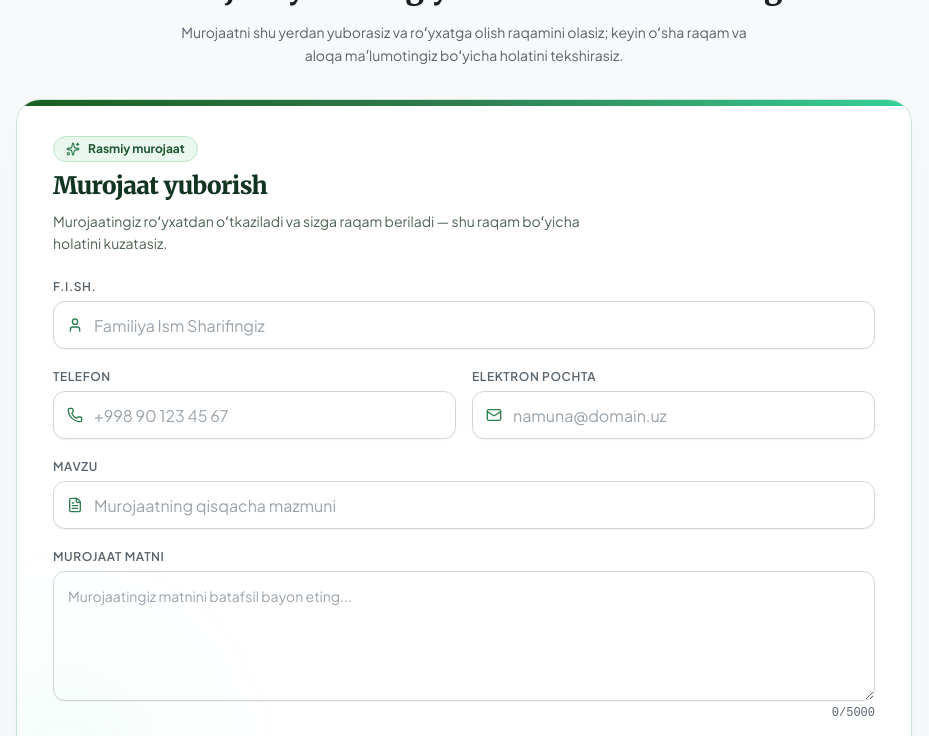
Test: filing an appeal › fills the check form with the number and contact just used
Type "Aziz Karimov" into the field with id "appeal-file-name" at point(464, 325), box [53,301,875,349]
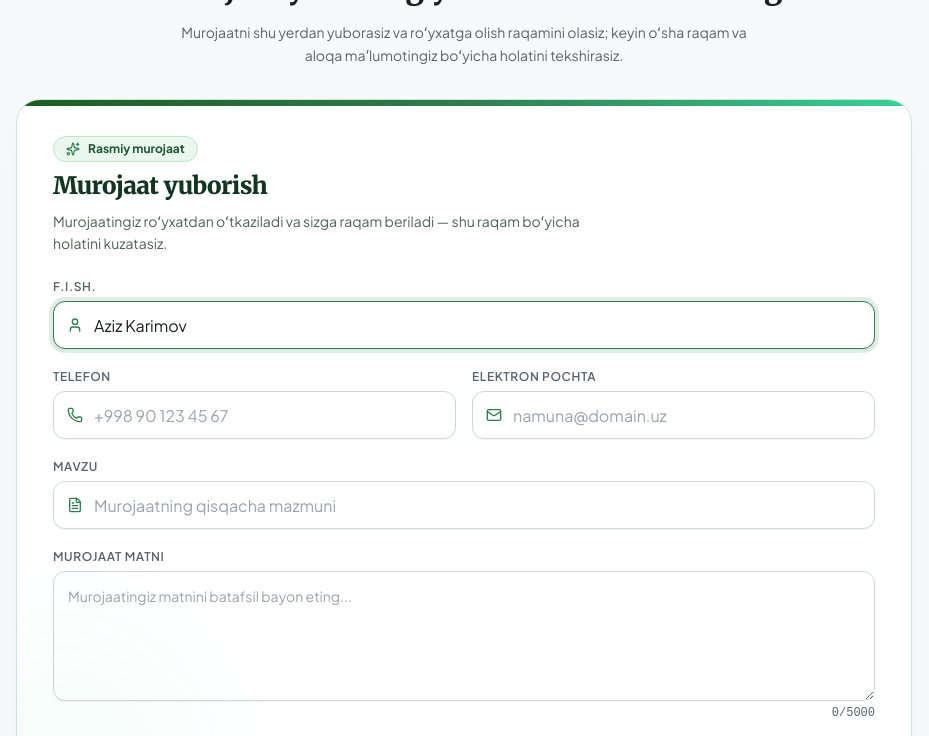
Type "Yaylovdan foydalanish" into the field with id "appeal-file-subject" at point(464, 505), box [53,481,875,529]
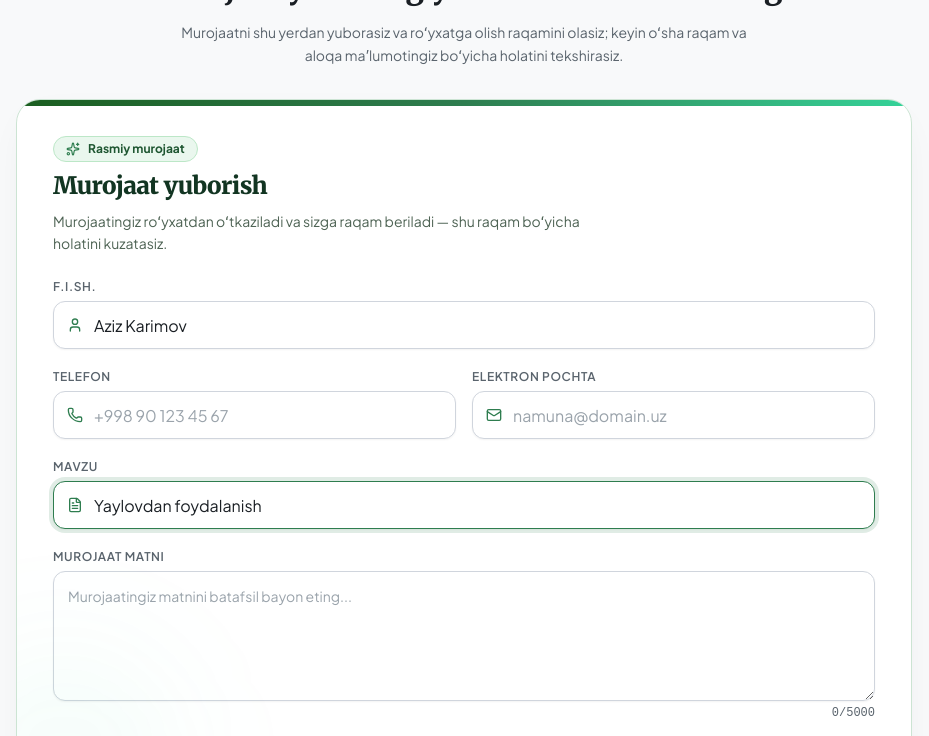
Type "Kontur chegarasi haqida savol." into the text box with id "appeal-file-body" at point(464, 636), box [53,571,875,701]
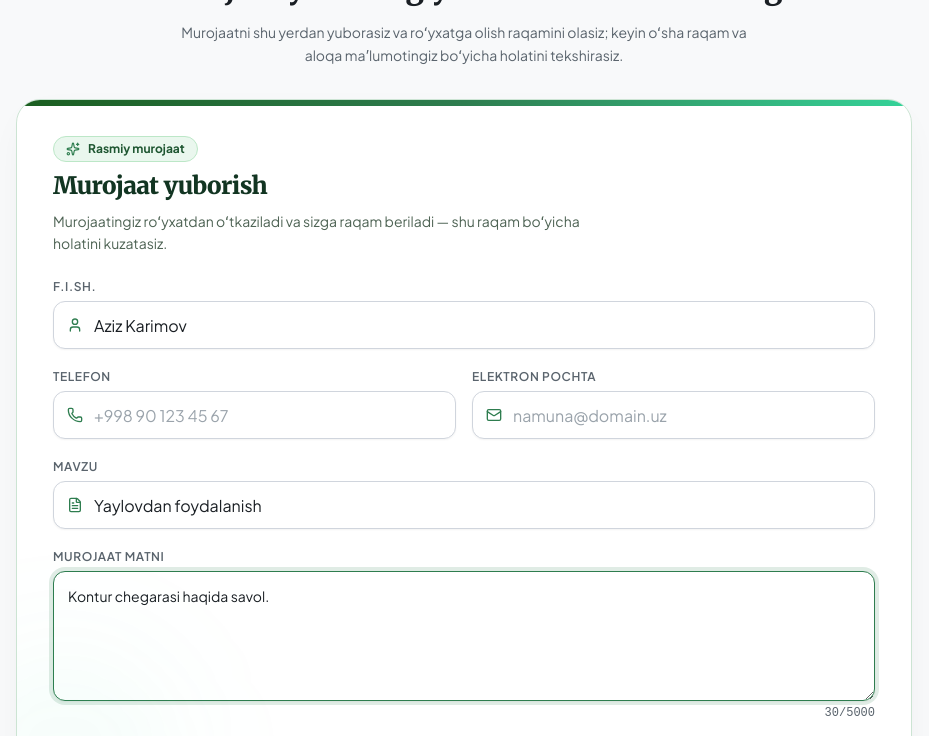
Type "aziz@example.uz" into the field with id "appeal-file-email" at point(674, 415), box [472,391,875,439]
(page scrolled)
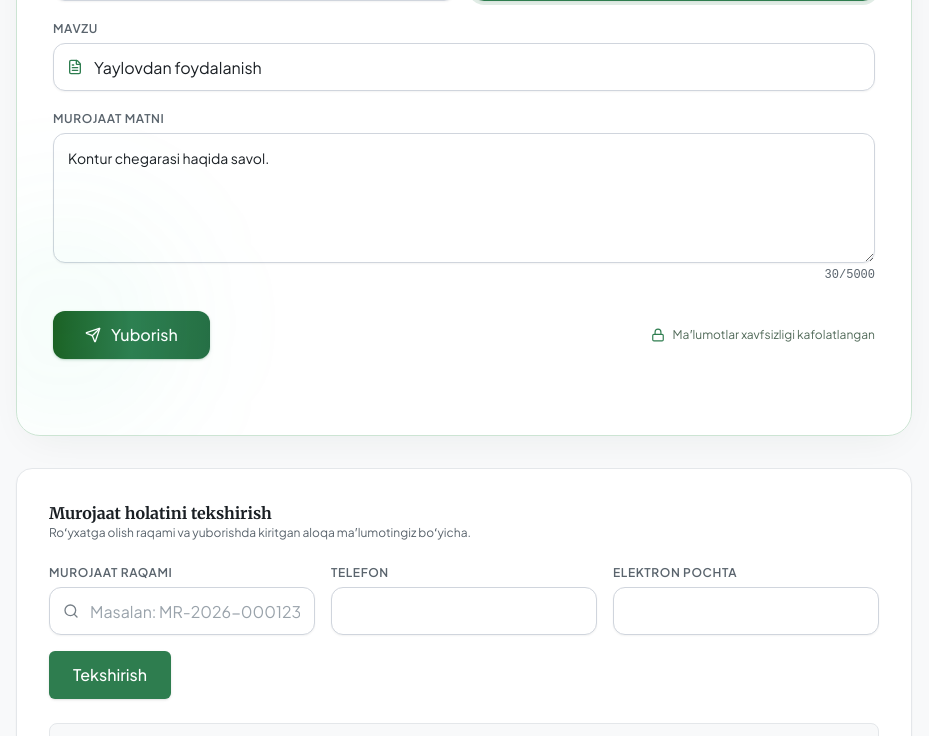
Click the button named "Yuborish" in the row of "Maʼlumotlar xavfsizligi kafolatlangan" at point(131, 335), box [53,311,210,359]
(page scrolled)
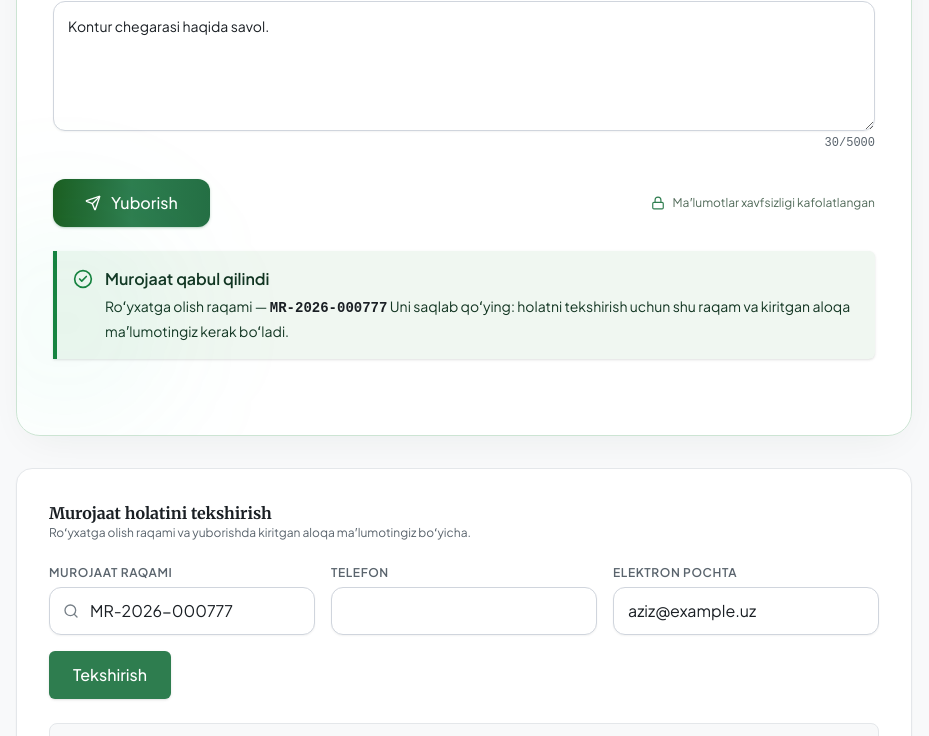
Result: the text "MR-2026-000777" is shown at [270,300,387,316]
Result: the field with id "appeal-number" holds "MR-2026-000777" at [49,586,315,634]
Result: the field with id "appeal-email" holds "aziz@example.uz" at [613,586,879,634]
